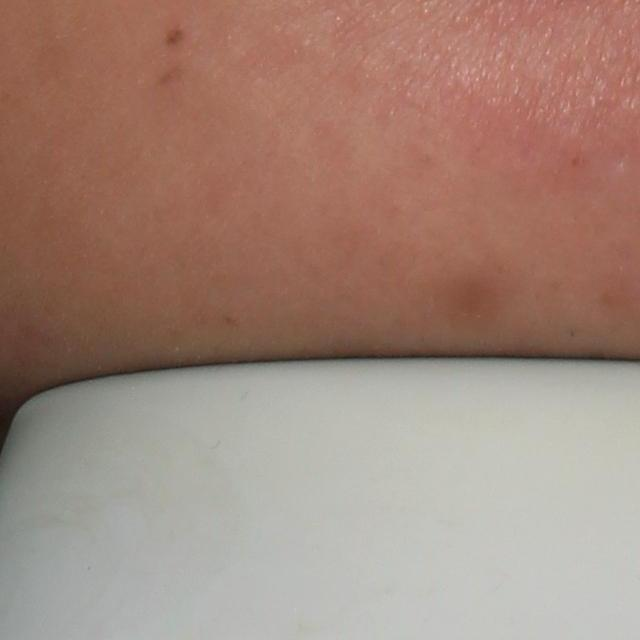nevus: (163, 22, 184, 47)
